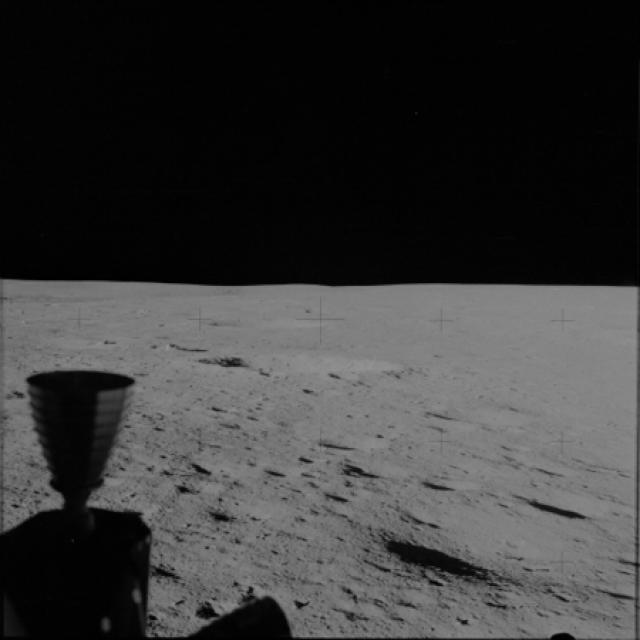crater: (192, 342, 464, 398), (372, 526, 563, 600), (186, 298, 377, 340), (511, 478, 602, 526), (196, 481, 258, 540), (306, 419, 384, 459), (422, 465, 484, 495), (157, 334, 222, 360), (322, 481, 360, 513), (250, 452, 293, 480), (338, 458, 388, 481), (182, 449, 218, 480)
rock: (177, 590, 226, 622)
